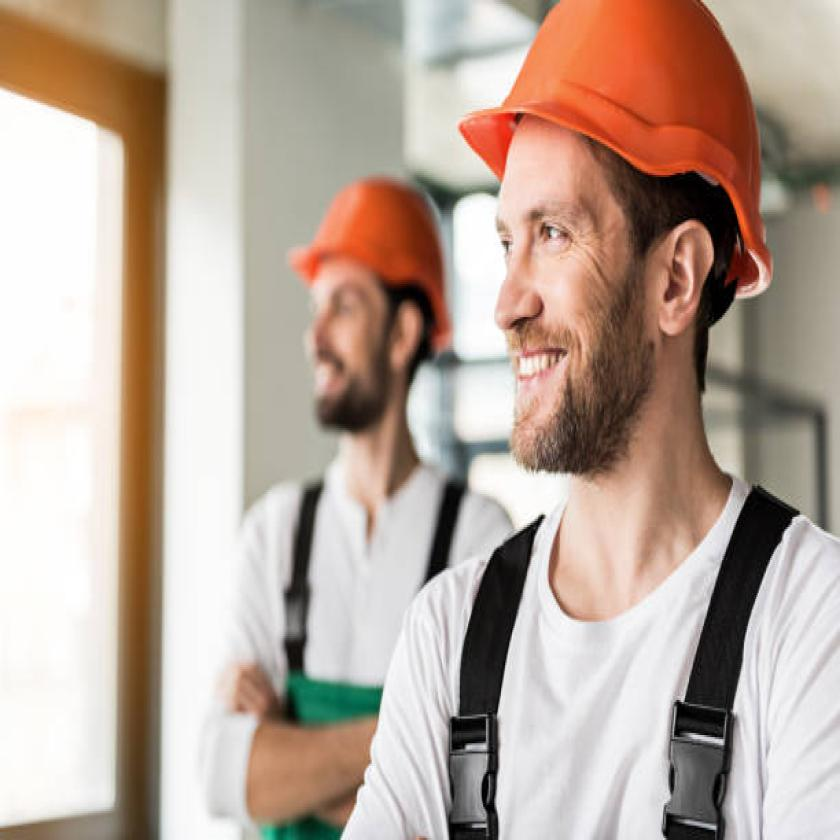Con_casco: (458, 0, 806, 493), (287, 158, 467, 452)
